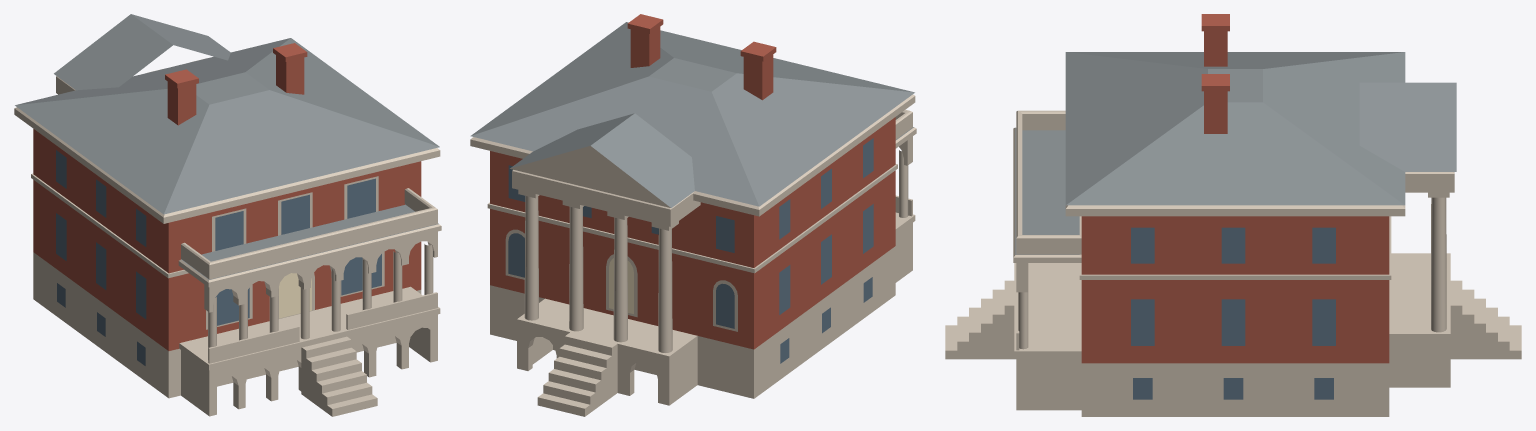
Rendered from cola-robert-mills-house.glb.
3 views of the same model, side by side, from view 1: azimuth 30°, elevation 25°; view 2: azimuth 150°, elevation 25°; view 3: azimuth 270°, elevation 25° (orthographic). The views are drawn at different scales.
Visible parts, largest first — view 1: Robert Mills House; view 2: Robert Mills House; view 3: Robert Mills House.
Boxes of the visible parts, box(x1,y1,x2,y2) form: Robert Mills House: box(14, 14, 441, 416); Robert Mills House: box(470, 14, 916, 416); Robert Mills House: box(945, 14, 1521, 416).
Bounding box in the file's own units: 18.4 × 16.6 × 29.2.
